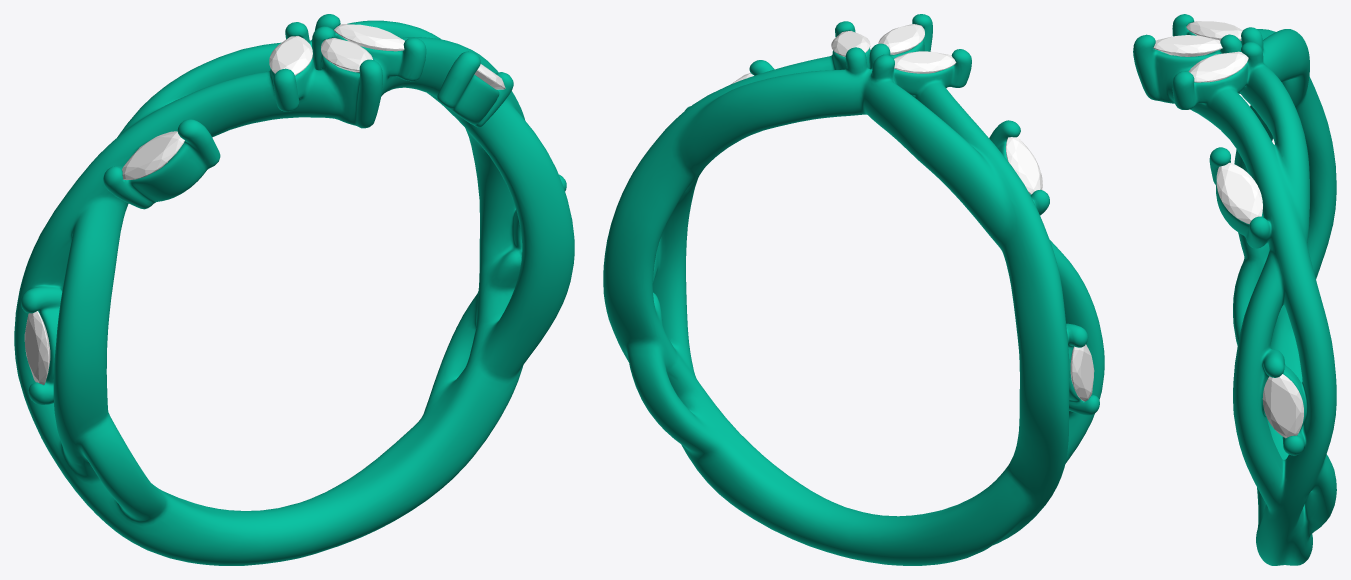
Rendered from BE2D6391_RENDER.glb.
The picture shows the model from 3 angles, left to right: view 1: azimuth 30°, elevation 25°; view 2: azimuth 150°, elevation 25°; view 3: azimuth 270°, elevation 25°; orthographic projection. The views are drawn at different scales.
Visible parts, largest first — view 1: Metal03, Diamond_Marquise_Gem_BD.001, Diamond_Marquise_Gem_BD.005, Diamond_Marquise_Gem_BD, Diamond_Marquise_Gem_BD.003, Diamond_Marquise_Gem_BD.004; view 2: Metal03, Diamond_Marquise_Gem_BD.001, Diamond_Marquise_Gem_BD.003, Diamond_Marquise_Gem_BD.005, Diamond_Marquise_Gem_BD.004, Diamond_Marquise_Gem_BD; view 3: Metal03, Diamond_Marquise_Gem_BD.006, Diamond_Marquise_Gem_BD.002, Diamond_Marquise_Gem_BD, Diamond_Marquise_Gem_BD.004, Diamond_Marquise_Gem_BD.003.
Part boxes in pixels (bbox=[...]): Metal03: bbox=[14, 14, 574, 565]; Diamond_Marquise_Gem_BD.001: bbox=[122, 131, 184, 179]; Diamond_Marquise_Gem_BD.005: bbox=[24, 311, 50, 384]; Diamond_Marquise_Gem_BD: bbox=[333, 24, 404, 51]; Diamond_Marquise_Gem_BD.003: bbox=[269, 36, 312, 75]; Diamond_Marquise_Gem_BD.004: bbox=[321, 38, 372, 72]; Metal03: bbox=[603, 14, 1104, 565]; Diamond_Marquise_Gem_BD.001: bbox=[1005, 137, 1042, 194]; Diamond_Marquise_Gem_BD.003: bbox=[894, 51, 956, 73]; Diamond_Marquise_Gem_BD.005: bbox=[1070, 344, 1094, 401]; Diamond_Marquise_Gem_BD.004: bbox=[878, 24, 924, 54]; Diamond_Marquise_Gem_BD: bbox=[831, 31, 870, 57]; Metal03: bbox=[1133, 14, 1336, 565]; Diamond_Marquise_Gem_BD.006: bbox=[1262, 374, 1303, 437]; Diamond_Marquise_Gem_BD.002: bbox=[1216, 162, 1262, 224]; Diamond_Marquise_Gem_BD: bbox=[1188, 51, 1248, 82]; Diamond_Marquise_Gem_BD.004: bbox=[1153, 35, 1222, 56]; Diamond_Marquise_Gem_BD.003: bbox=[1186, 21, 1242, 40].
Size of the model in its own units: 21.46 by 20.95 by 7.7.
